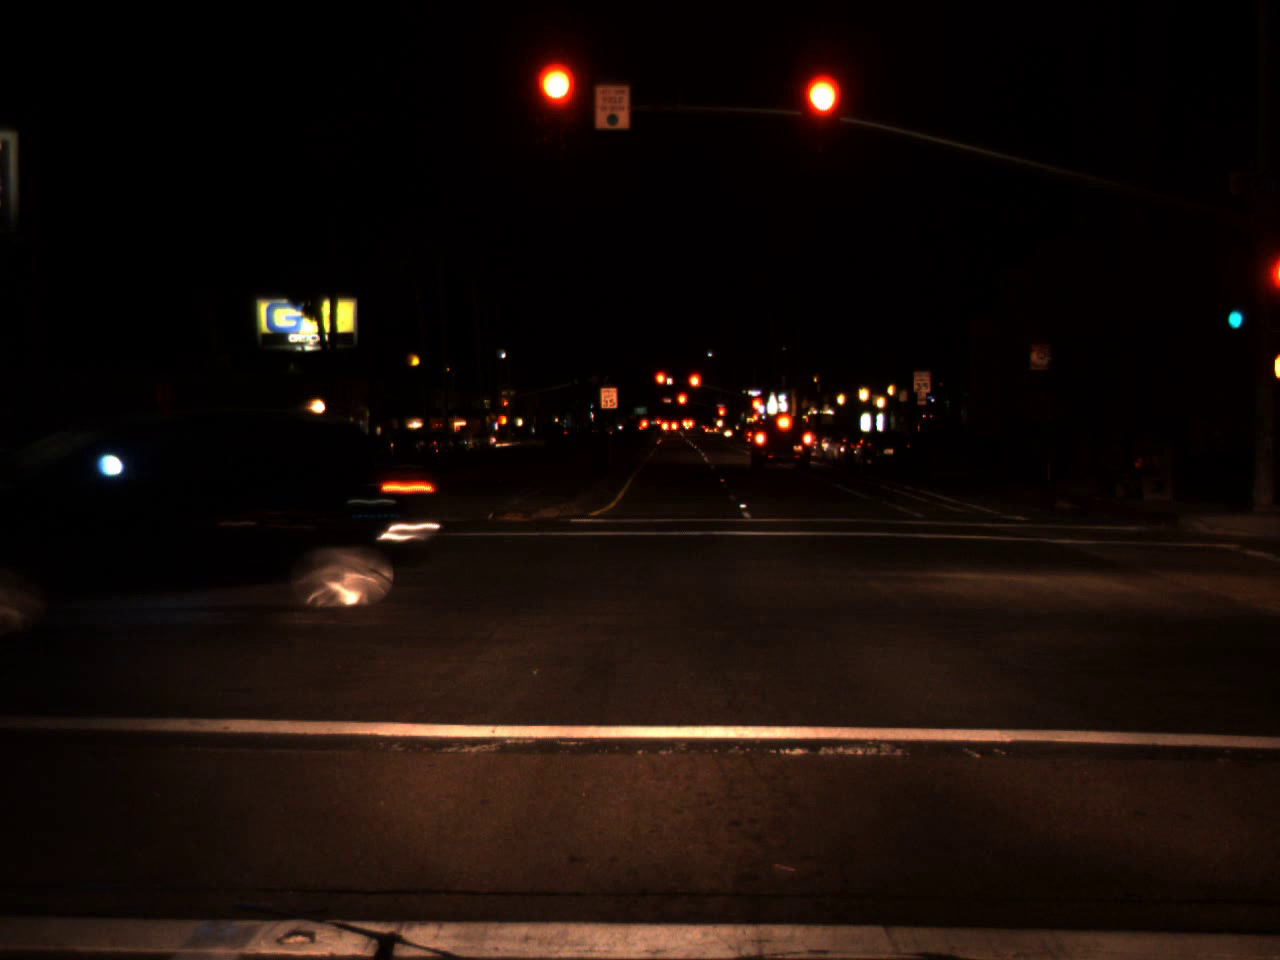stop: (537, 65, 577, 143), (802, 75, 841, 153), (686, 372, 702, 401), (653, 370, 668, 399), (675, 391, 688, 418), (749, 396, 764, 412), (717, 406, 726, 424), (502, 400, 508, 410)
